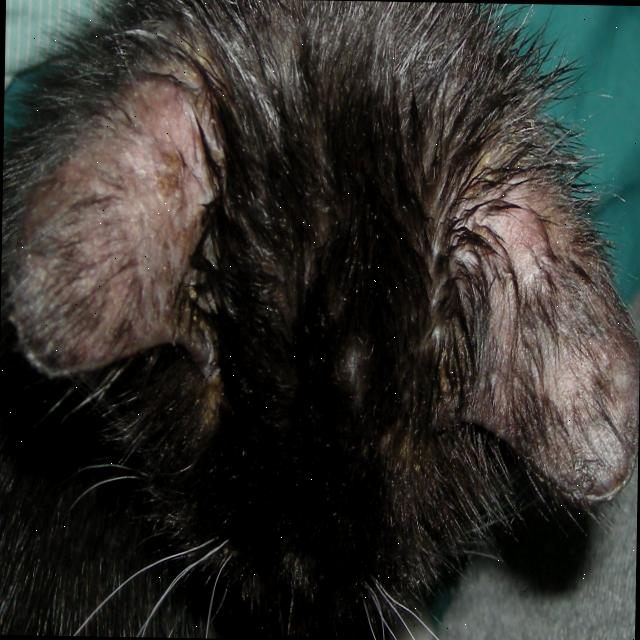cat-scabies: (6, 29, 246, 423), (447, 154, 640, 519)
